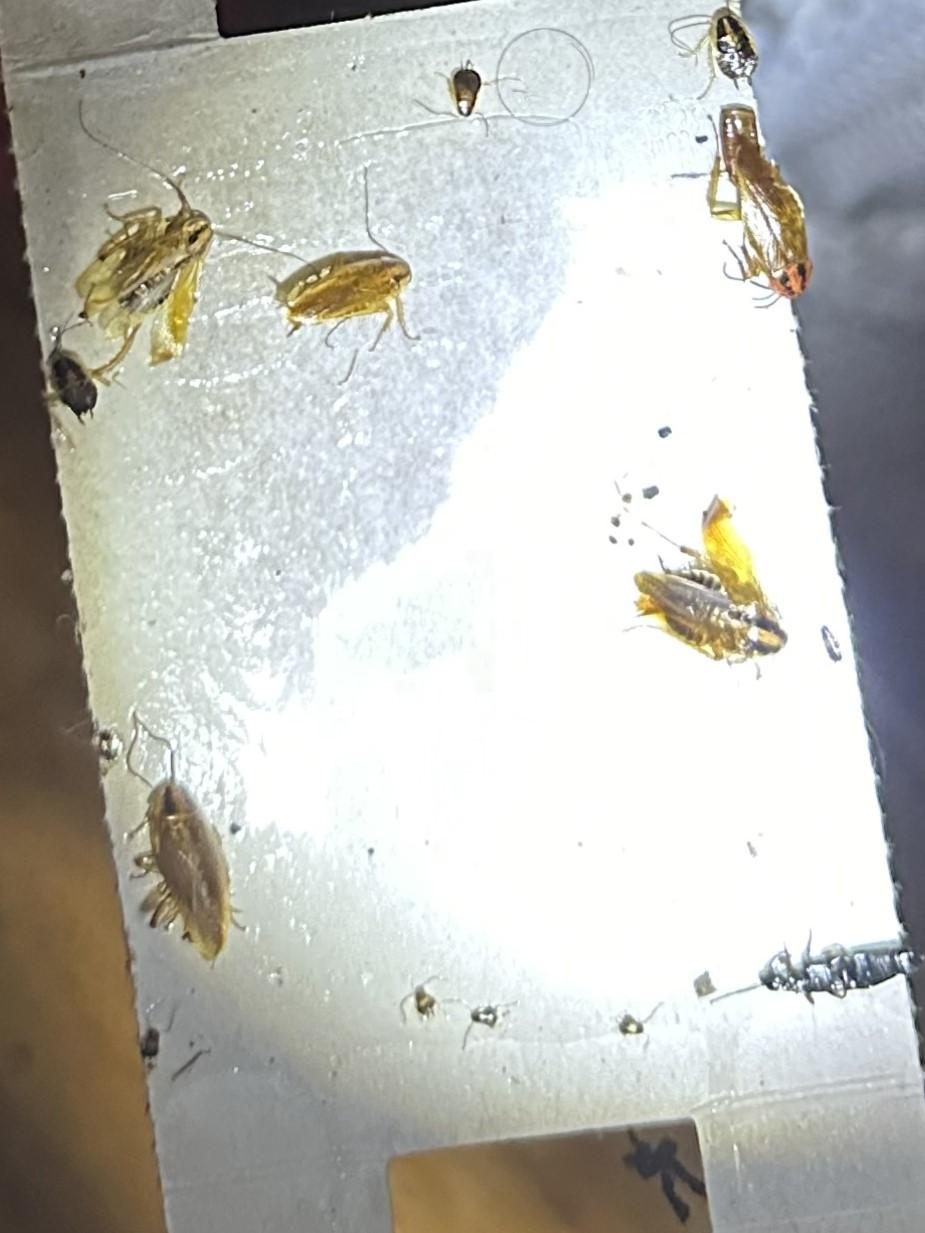cockroach: (0, 676, 350, 1010), (562, 475, 894, 794), (238, 153, 510, 449), (38, 110, 284, 413), (622, 93, 879, 361), (370, 23, 550, 161), (625, 0, 806, 113)
